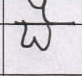ai_matra: (29, 0, 54, 23)
